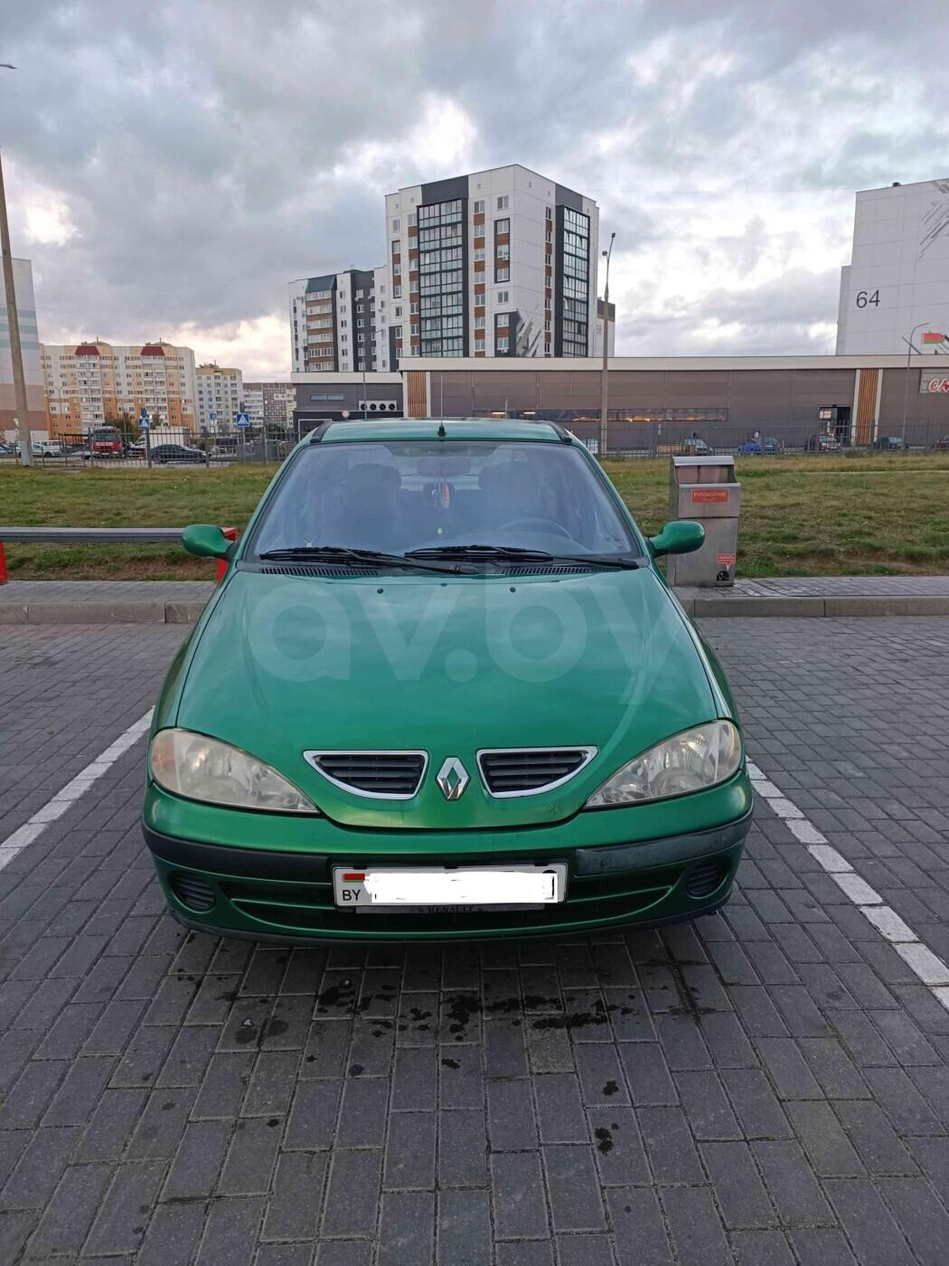Megane_1999-2003: (134, 411, 757, 955)
